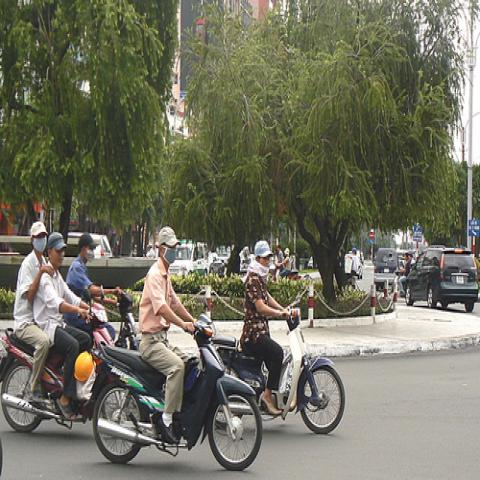car: (405, 245, 478, 312), (168, 241, 219, 277), (68, 232, 112, 258), (374, 249, 399, 291), (345, 253, 364, 282), (211, 260, 223, 277), (307, 255, 318, 268)
motorcycle: (91, 311, 267, 473), (216, 308, 346, 434), (0, 331, 66, 434), (82, 284, 115, 373), (108, 292, 138, 348), (81, 368, 109, 422)
